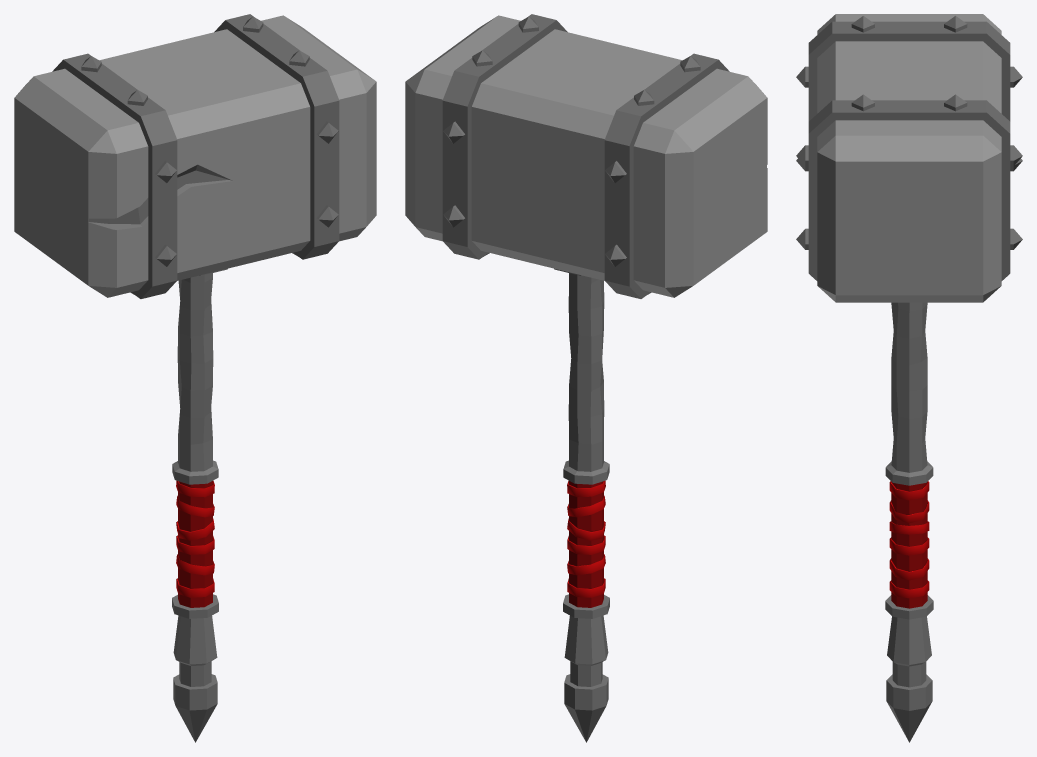
The model's file is SuperHammer.fbx.
3 renders of one model, left to right at view 1: azimuth 30°, elevation 25°; view 2: azimuth 150°, elevation 25°; view 3: azimuth 270°, elevation 25°, orthographic.
Visible parts, largest first — view 1: Cubo.017, Cilindro.017, Cubo.016, Cilindro.010, Cubo.021; view 2: Cubo.017, Cilindro.017, Cubo.016, Cilindro.010, Cubo.021; view 3: Cubo.017, Cilindro.017, Cubo.016, Cilindro.010, Cubo.021.
Boxes of the visible parts, bbox=[...] form: Cubo.017: bbox=[14, 15, 376, 297]; Cilindro.017: bbox=[172, 273, 218, 742]; Cubo.016: bbox=[52, 14, 339, 298]; Cilindro.010: bbox=[176, 480, 214, 597]; Cubo.021: bbox=[81, 16, 338, 294]; Cubo.017: bbox=[405, 15, 767, 297]; Cilindro.017: bbox=[563, 273, 609, 742]; Cubo.016: bbox=[442, 14, 729, 298]; Cilindro.010: bbox=[567, 480, 605, 597]; Cubo.021: bbox=[443, 16, 700, 294]; Cubo.017: bbox=[817, 14, 1001, 302]; Cilindro.017: bbox=[885, 302, 933, 742]; Cubo.016: bbox=[808, 21, 1010, 280]; Cilindro.010: bbox=[889, 481, 929, 598]; Cubo.021: bbox=[796, 16, 1022, 249].
Bounding box in the file's own units: 360 × 824 × 246.
